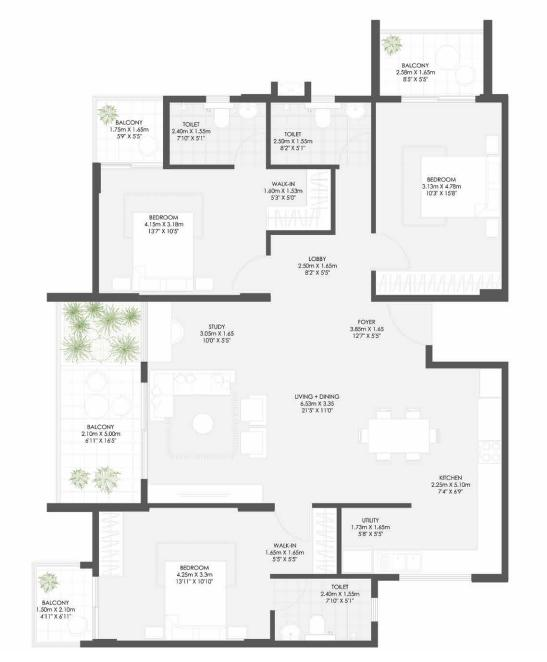Balcony: (56, 301, 143, 502), (378, 27, 484, 97), (93, 100, 161, 164), (37, 568, 93, 643)
Bed: (419, 156, 505, 220), (136, 209, 198, 296), (163, 556, 226, 640)
Bedroom: (375, 101, 501, 293), (96, 511, 272, 641), (96, 168, 268, 298)
Dining Room: (322, 369, 450, 502)
Dining table: (352, 406, 443, 475)
Foyer: (266, 295, 436, 365)
Kitchen: (429, 367, 504, 574)
Living Room: (144, 370, 323, 505)
Sofa: (147, 367, 238, 398), (145, 369, 175, 420), (239, 399, 267, 453), (194, 415, 213, 432)
Wardrobe: (378, 270, 505, 300), (313, 505, 341, 572), (99, 509, 126, 576), (305, 168, 333, 230), (269, 208, 333, 234)
commode: (214, 101, 230, 128), (310, 616, 327, 640), (316, 104, 330, 130)
door: (266, 505, 314, 541), (373, 233, 413, 272), (230, 253, 266, 292)
sink: (379, 554, 422, 576), (345, 102, 365, 120), (282, 624, 300, 642)
stove: (477, 440, 503, 465)
study: (147, 304, 266, 367)
toilet: (274, 580, 375, 644), (167, 101, 265, 166), (275, 101, 372, 165)
tv: (145, 483, 264, 502)
utility: (342, 507, 423, 576)
walkin: (271, 508, 339, 573)
